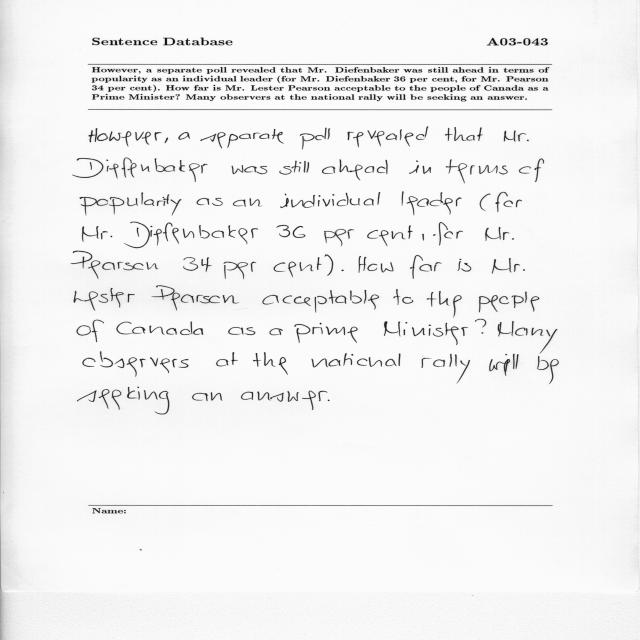word: (124, 222, 258, 248), (73, 158, 208, 182), (262, 290, 379, 313), (83, 352, 188, 377), (78, 387, 170, 414), (71, 251, 159, 279), (80, 192, 182, 216), (152, 286, 240, 311), (384, 321, 468, 345), (498, 321, 557, 354), (241, 391, 327, 410), (348, 127, 429, 147), (281, 192, 381, 208), (200, 129, 284, 148), (446, 160, 508, 184), (421, 354, 470, 384), (402, 192, 462, 216), (89, 128, 162, 147), (322, 160, 388, 181), (74, 288, 135, 310), (312, 353, 401, 368), (294, 323, 358, 343), (479, 292, 539, 313), (116, 321, 203, 335), (367, 226, 413, 247), (274, 257, 322, 277), (427, 291, 462, 318), (253, 352, 288, 375), (411, 255, 442, 279), (433, 222, 463, 245), (300, 128, 330, 150), (489, 354, 519, 376), (537, 356, 559, 384), (359, 256, 394, 273), (77, 320, 104, 342), (519, 159, 544, 182), (224, 262, 257, 279), (495, 192, 522, 212), (445, 127, 483, 141), (324, 229, 354, 246), (492, 258, 525, 273), (83, 226, 113, 242), (183, 257, 212, 272), (279, 161, 309, 175), (485, 227, 514, 241), (277, 225, 306, 238), (216, 352, 238, 367), (232, 166, 268, 175), (394, 289, 414, 305), (409, 160, 431, 174), (192, 392, 223, 401), (504, 131, 529, 142), (233, 198, 262, 207), (196, 198, 223, 206), (229, 327, 256, 335), (480, 193, 491, 211), (325, 255, 334, 276), (458, 259, 472, 272), (475, 319, 486, 334), (178, 132, 190, 140), (270, 328, 283, 335), (165, 138, 168, 144), (422, 234, 424, 241), (341, 270, 344, 271), (328, 400, 330, 401)
